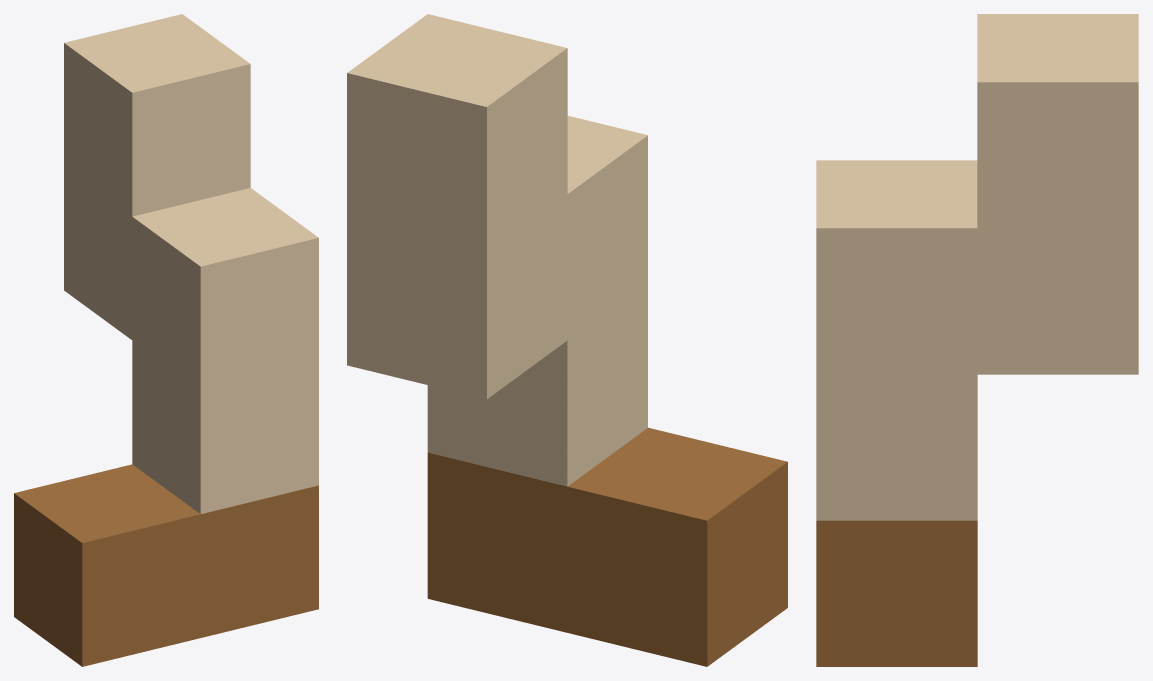
Rendered from meerkat__leg_fl.glb.
3 views of the same model, side by side, from view 1: azimuth 30°, elevation 25°; view 2: azimuth 150°, elevation 25°; view 3: azimuth 270°, elevation 25° (orthographic). The views are drawn at different scales.
Parts seen in each view (by area): view 1: meerkat__leg_fl; view 2: meerkat__leg_fl; view 3: meerkat__leg_fl.
Boxes of the visible parts, box(x1,y1,x2,y2) form: meerkat__leg_fl: box(14, 14, 318, 666); meerkat__leg_fl: box(347, 14, 787, 666); meerkat__leg_fl: box(816, 14, 1138, 666).
Size of the model in its own units: 0.2 by 0.4 by 0.2.
1 material, 1 textured.
